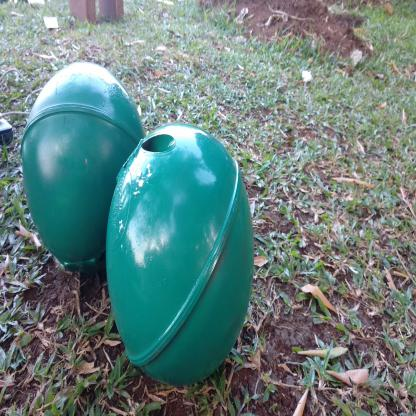green_buoy: (108, 125, 254, 389), (21, 56, 114, 272)
